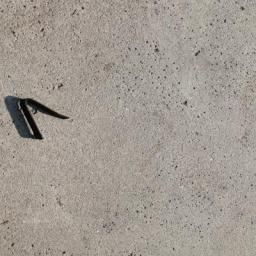FOD: (6, 95, 73, 142)
